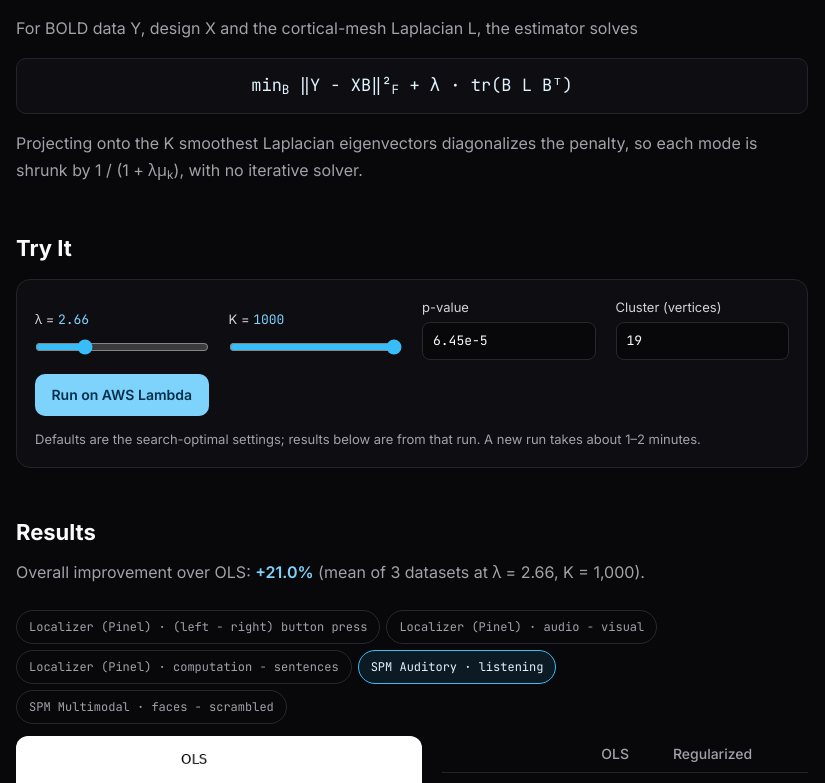
Laplacian demo page › recovers from a cold-start 500 on Run instead of showing an error
(page scrolled)
Click the button "Run on AWS Lambda". click: coordinates (122, 394)
box: 35,374 -> 208,416
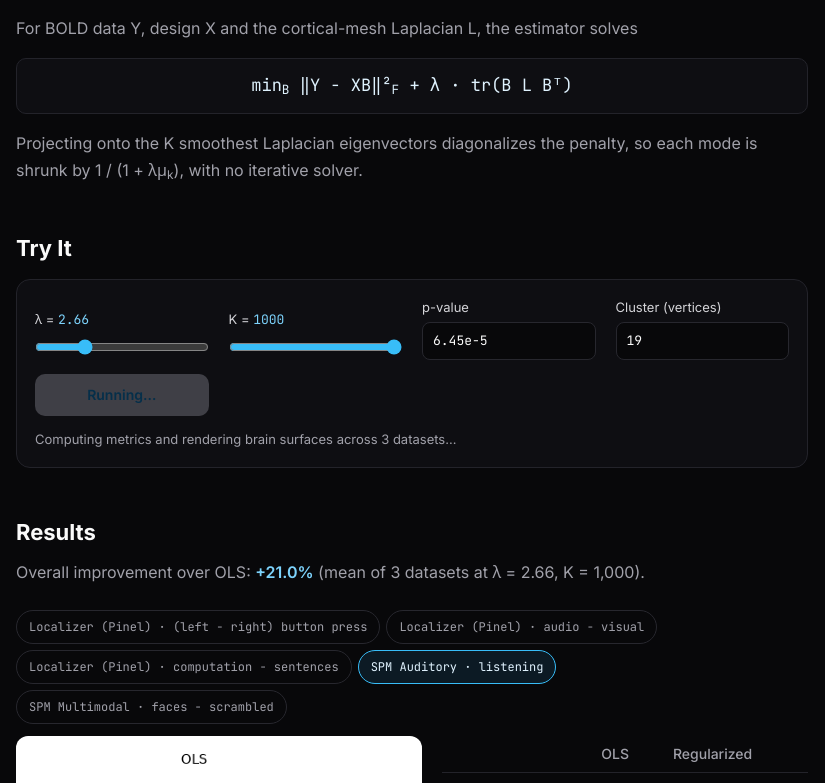
Expected: the text "Computing metrics and rendering" is shown, 35,430 -> 456,446
